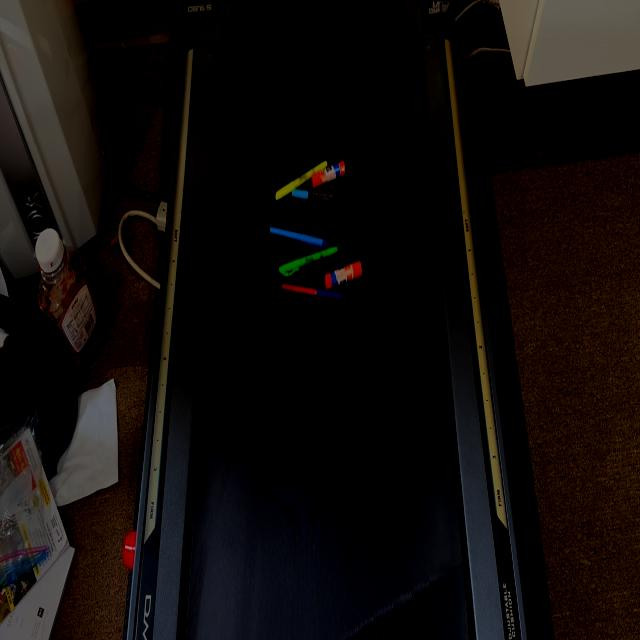Trash: (266, 222, 374, 310), (268, 162, 360, 212)
